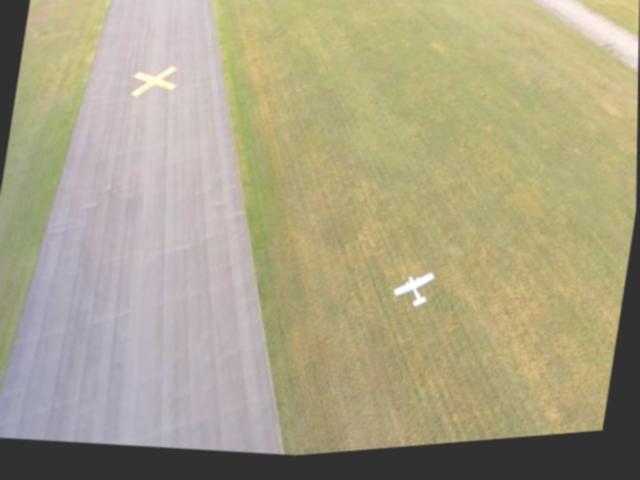uav: (393, 271, 436, 318)
